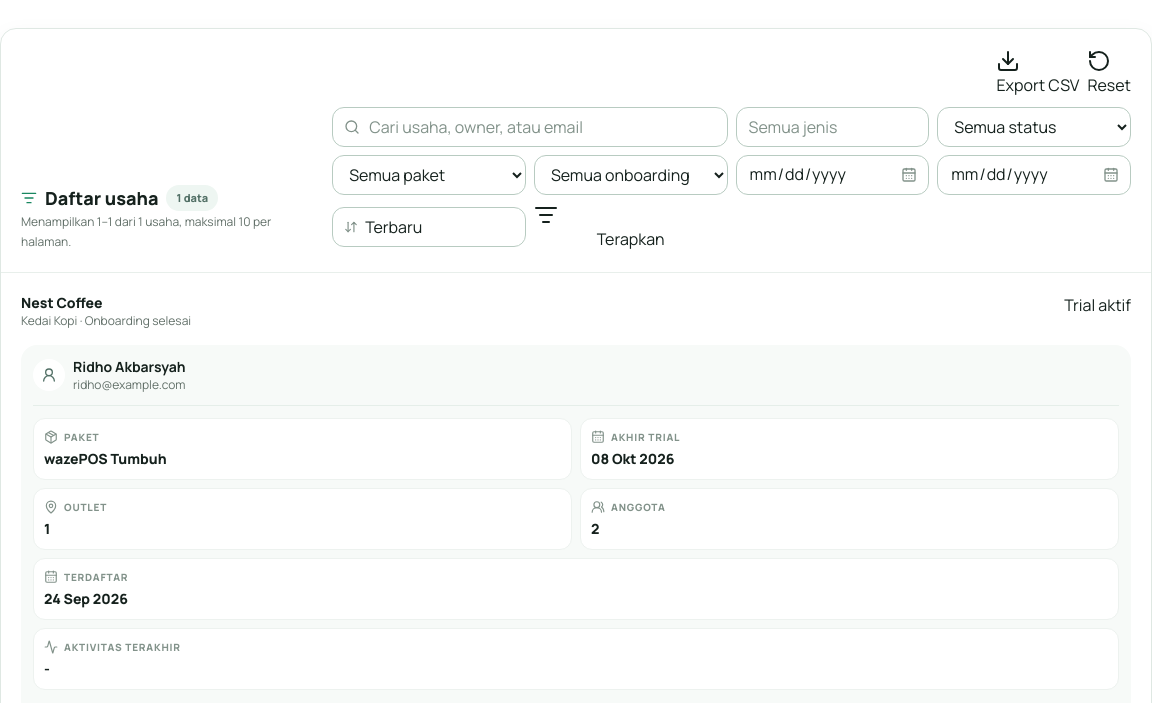
Test: PlatformAdminBusinessList › mengembalikan perubahan input ke default saat reset
This screenshot has width=1152, height=703.
Type "Nest" into the field with placeholder "Cari usaha, owner, atau email".
click(530, 127); type("Nest")  # box [332, 107, 728, 147]
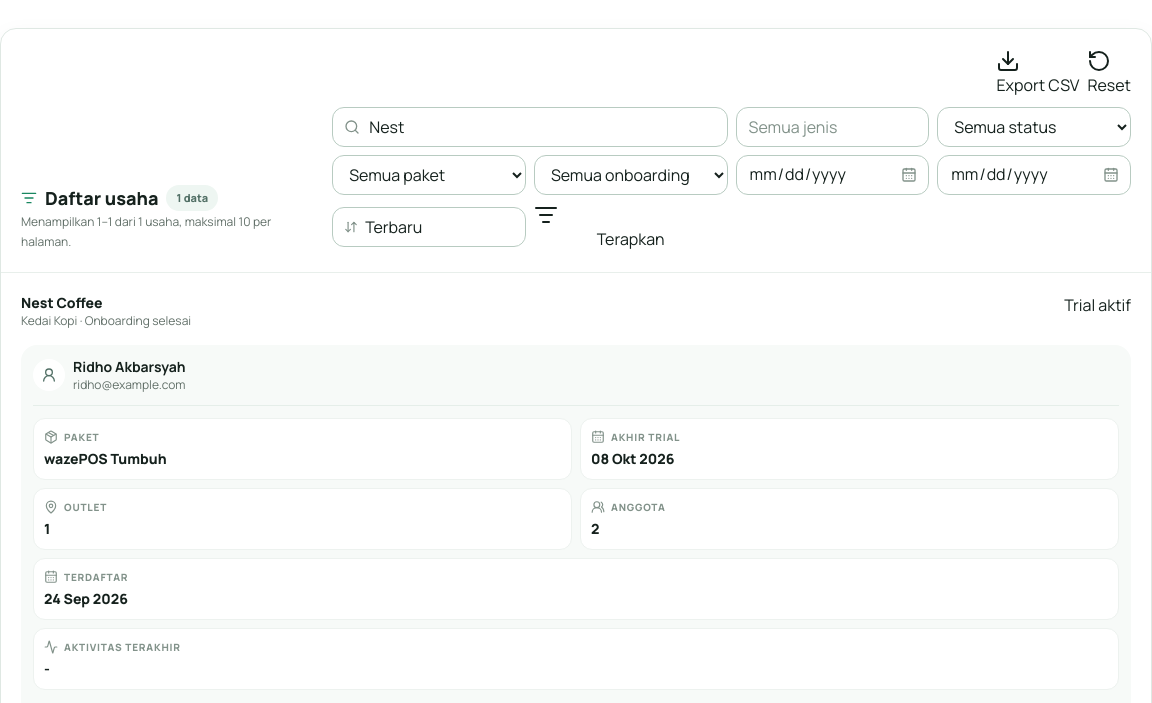
Type "Kedai Kopi" into the field named "Filter jenis usaha".
click(832, 127); type("Kedai Kopi")  # box [736, 107, 929, 147]
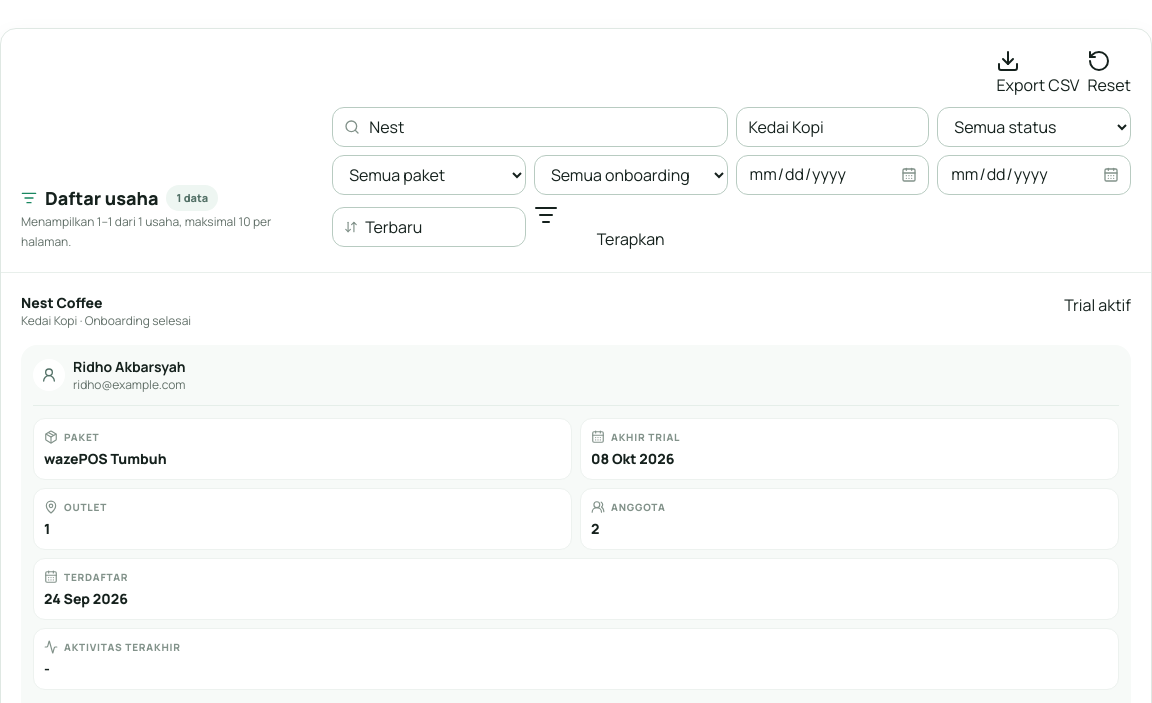
Select "Trial aktif" in the dropdown named "Filter status subscription" at (1034, 127), box [937, 107, 1131, 147]
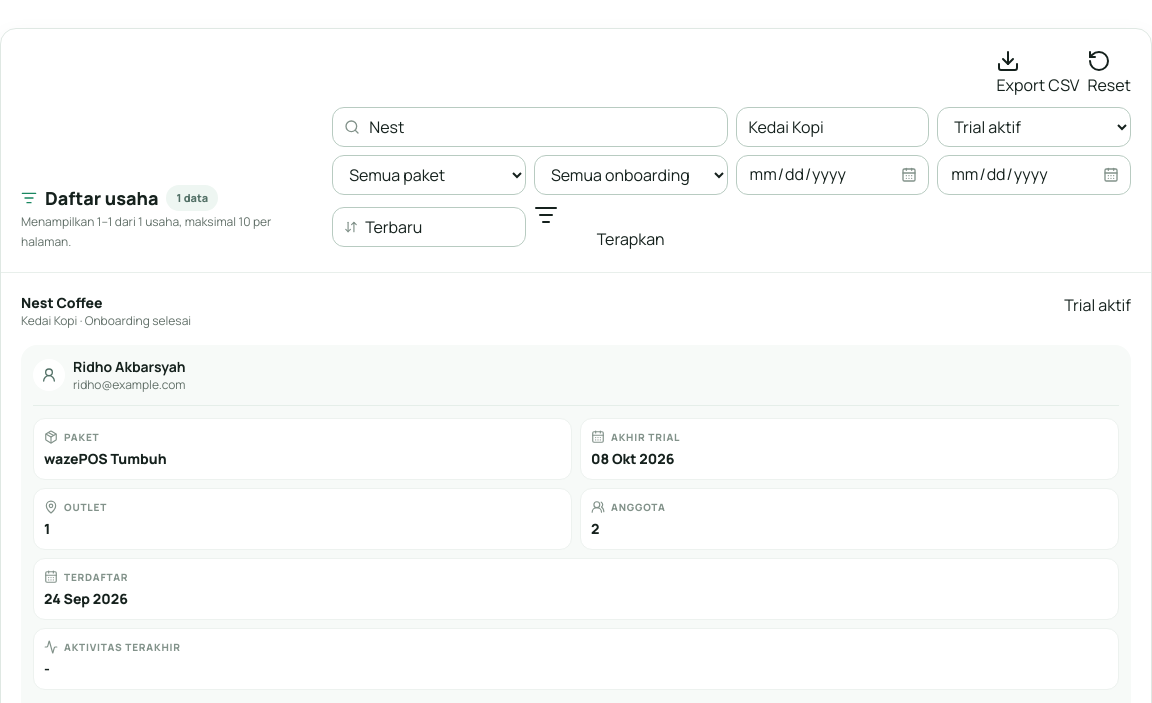
Click the button with aria-label "Reset filter".
click(1109, 74)  # box [1087, 49, 1131, 99]
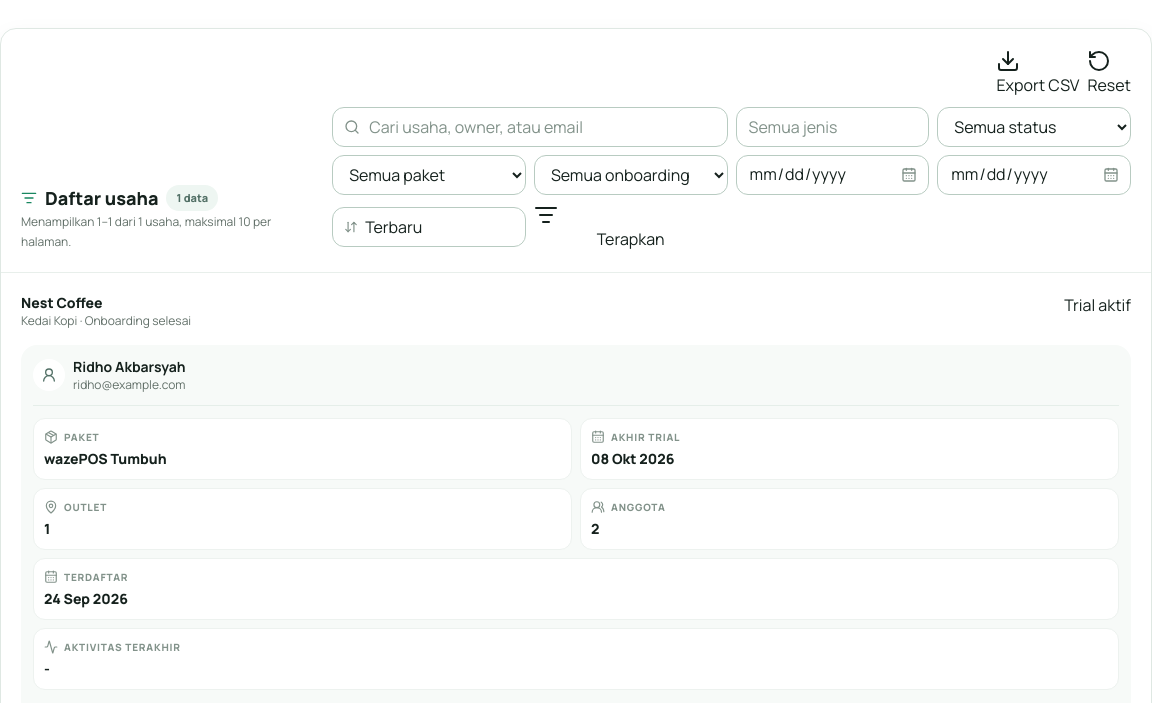
Check: the field with placeholder "Cari usaha, owner, atau email" is empty, box [332, 107, 728, 147]
Check: the field named "Filter jenis usaha" is empty, box [736, 107, 929, 147]
